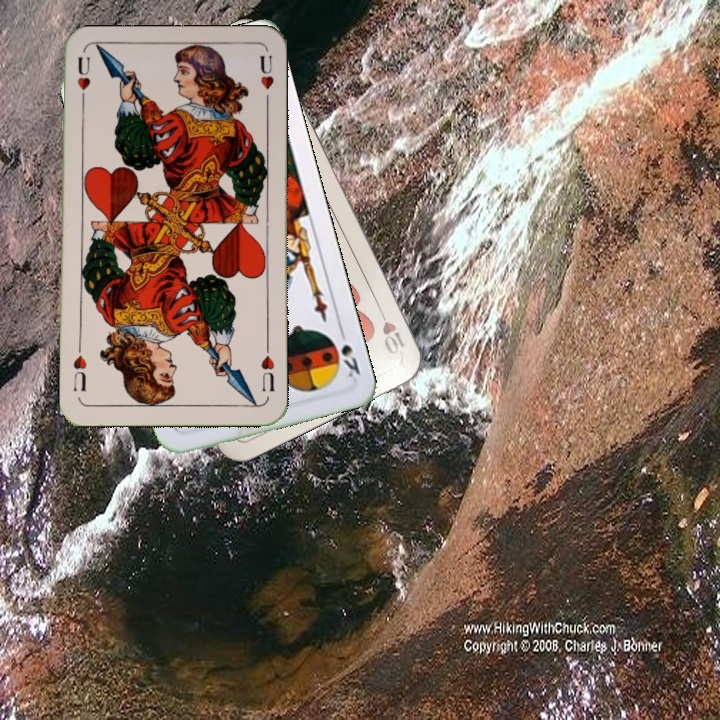H10: (373, 301, 408, 357)
HU: (73, 53, 93, 110), (257, 341, 277, 395)
SK: (335, 323, 363, 380)
